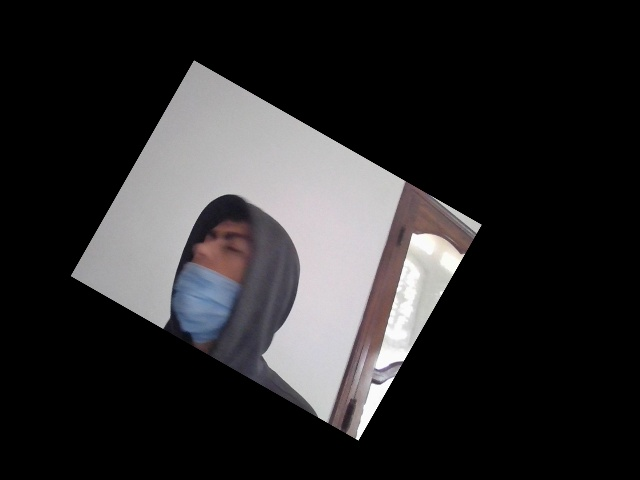mask_weared_incorrect: (167, 218, 260, 349)
